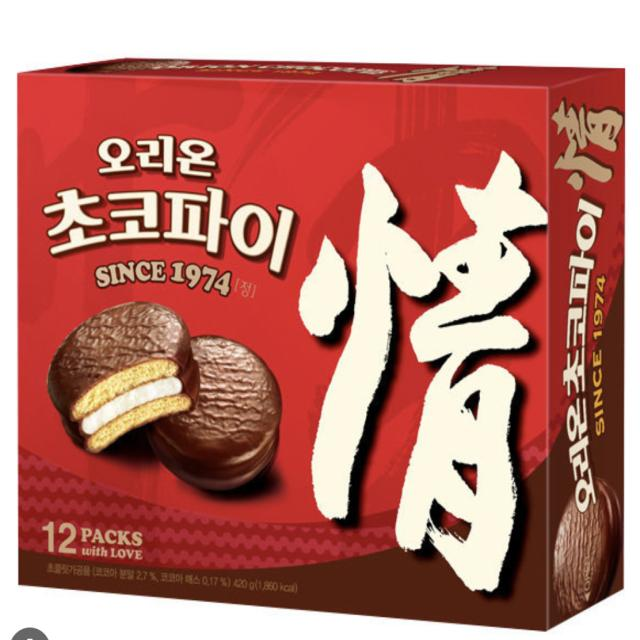biodegradable: (9, 25, 636, 626)
